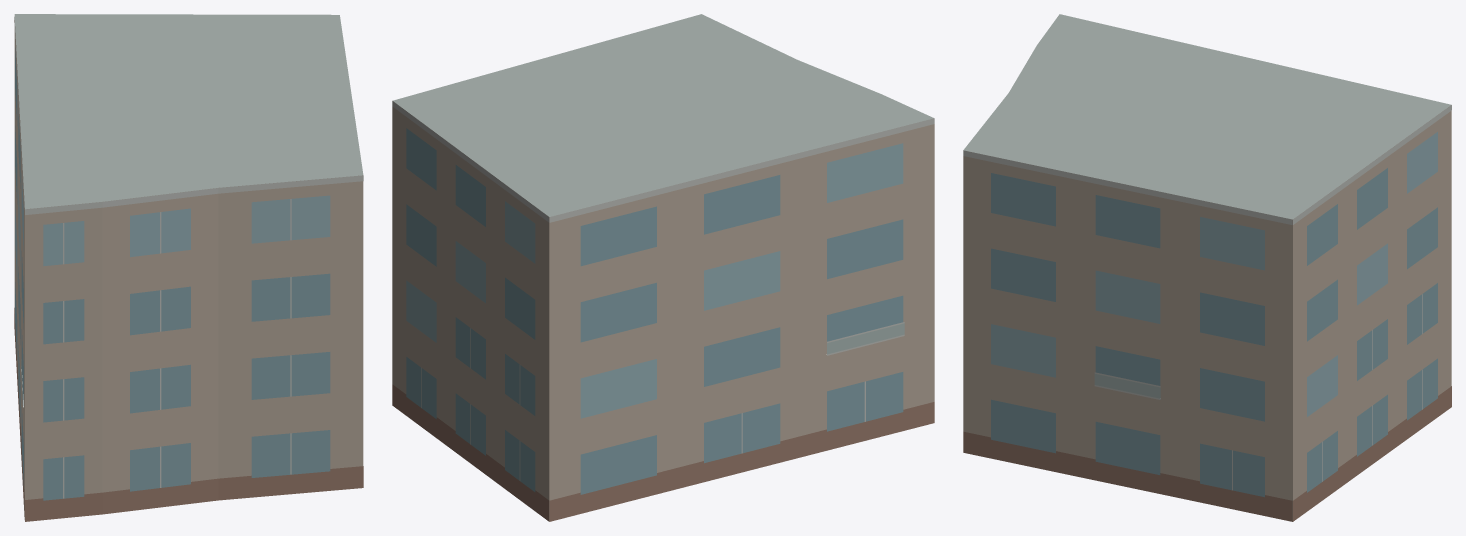
The model's file is survey-upis-32938776.glb.
3 renders of one model, left to right at view 1: azimuth 30°, elevation 25°; view 2: azimuth 150°, elevation 25°; view 3: azimuth 270°, elevation 25°, orthographic. The views are drawn at different scales.
Visible parts, largest first — view 1: survey-upis-32938776.tmp; view 2: survey-upis-32938776.tmp; view 3: survey-upis-32938776.tmp.
Boxes of the visible parts, x1,y1,x2,y2 form: survey-upis-32938776.tmp: (14, 14, 363, 521); survey-upis-32938776.tmp: (392, 14, 934, 521); survey-upis-32938776.tmp: (963, 14, 1451, 521).
Bounding box in the file's own units: 18.9 × 12.96 × 18.99.
